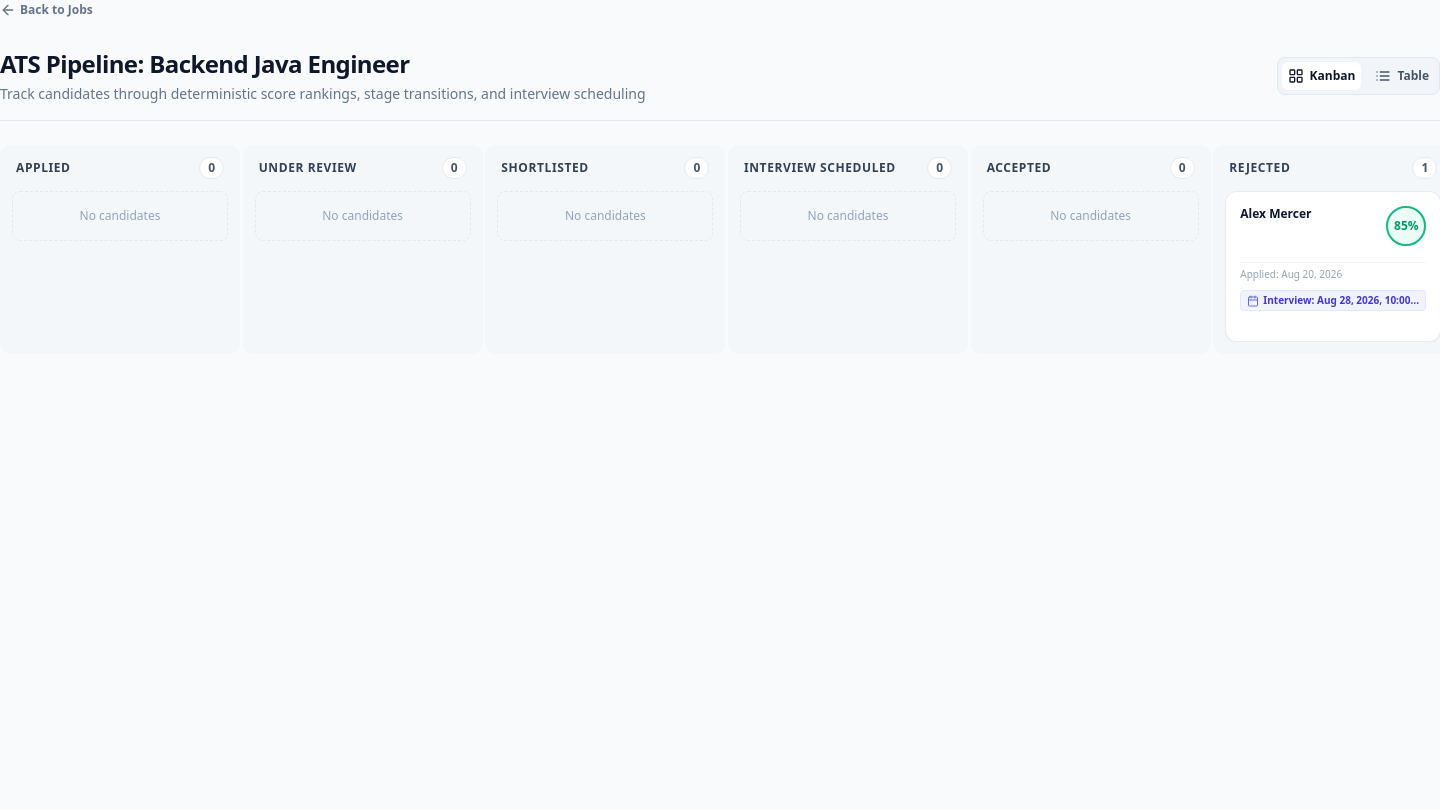
Recruiter Dossier & Notes Workflow › does NOT render Reschedule button in Candidate Dossier when candidate status is REJECTED
This screenshot has width=1440, height=810.
Open dossier
Click the heading "Alex Mercer" at (1276, 214), box x1=1240 y1=206 x2=1312 y2=222
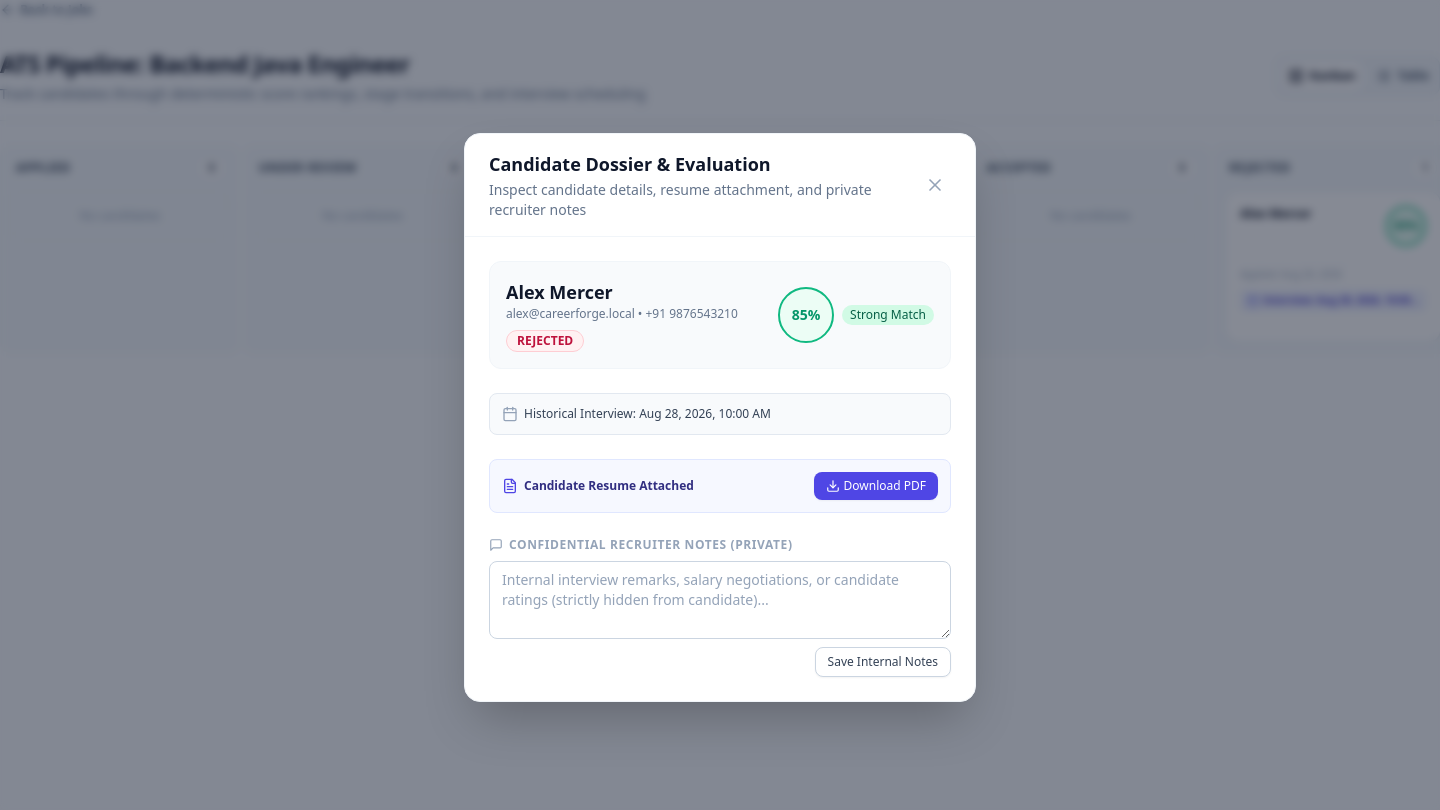
Now the heading "Candidate Dossier & Evaluation" is shown, box x1=489 y1=152 x2=771 y2=176
Now the text "Historical Interview: Aug 28, 2026, 10:00 AM" is shown, box x1=502 y1=406 x2=771 y2=422
